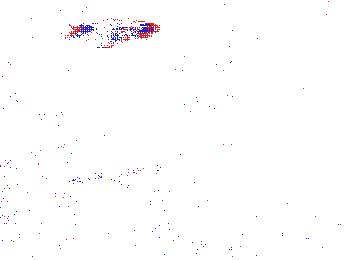X-ray fish: (235, 228, 297, 254), (125, 158, 182, 186)
redtail glassfish: (70, 13, 167, 49)
